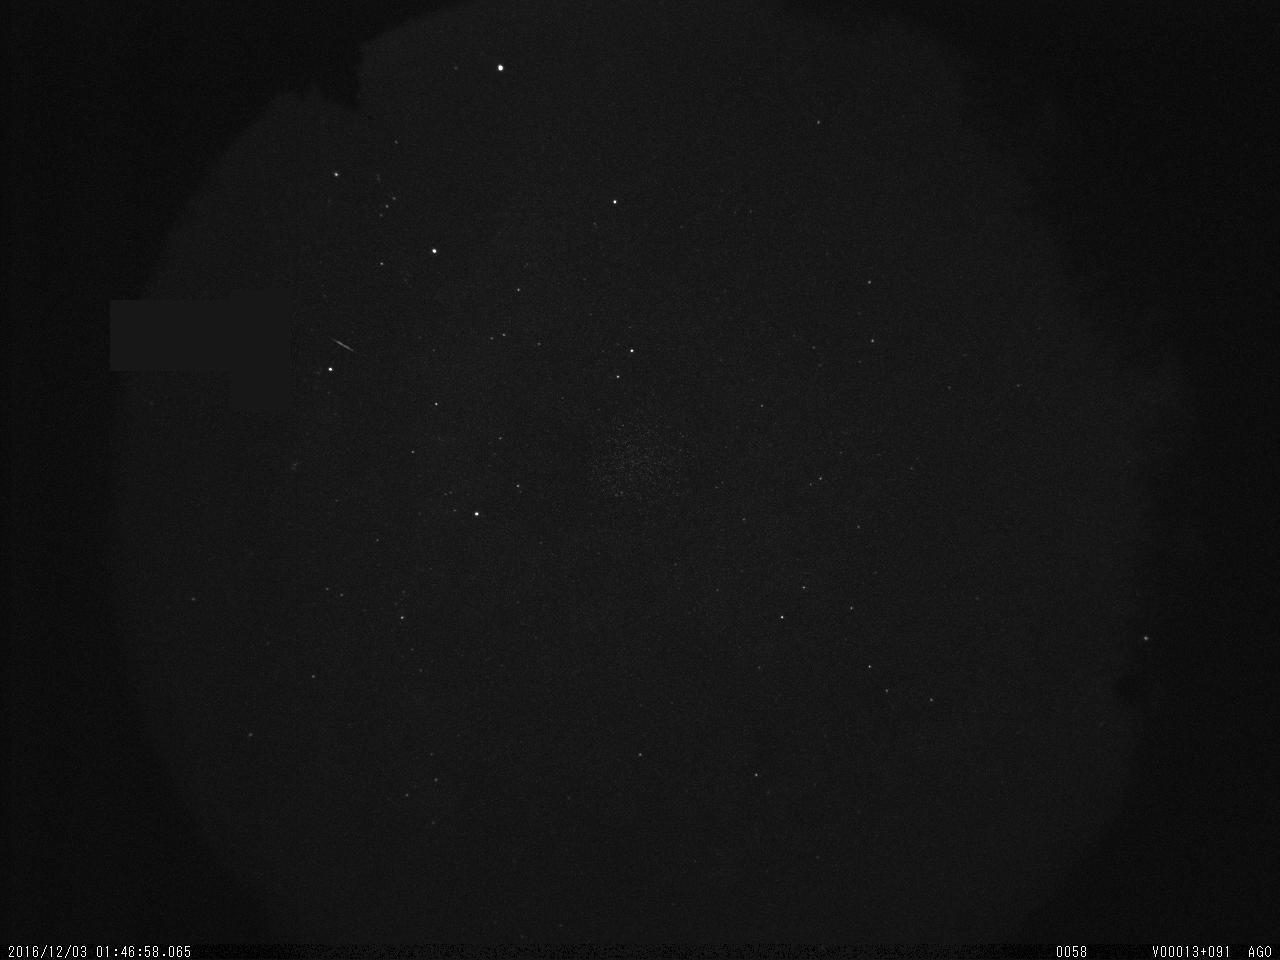Meteor: (327, 334, 360, 357)
